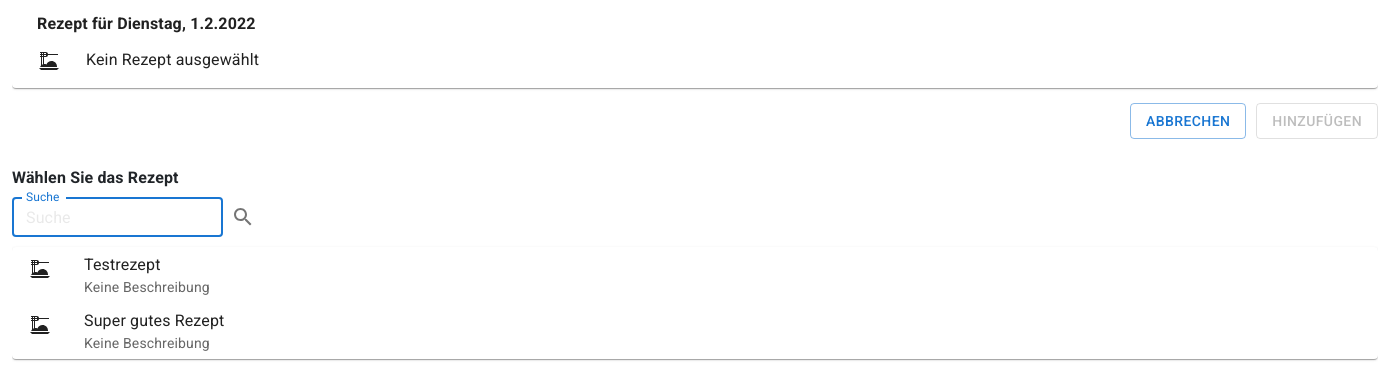
Test: renders selected recipe name if a recipe was selected
The image size is (1390, 378).
What coordinates should you click on to do the following:
click the text "Testrezept"
I would click on:
 (122, 265)
Its box is [84,255,160,274].
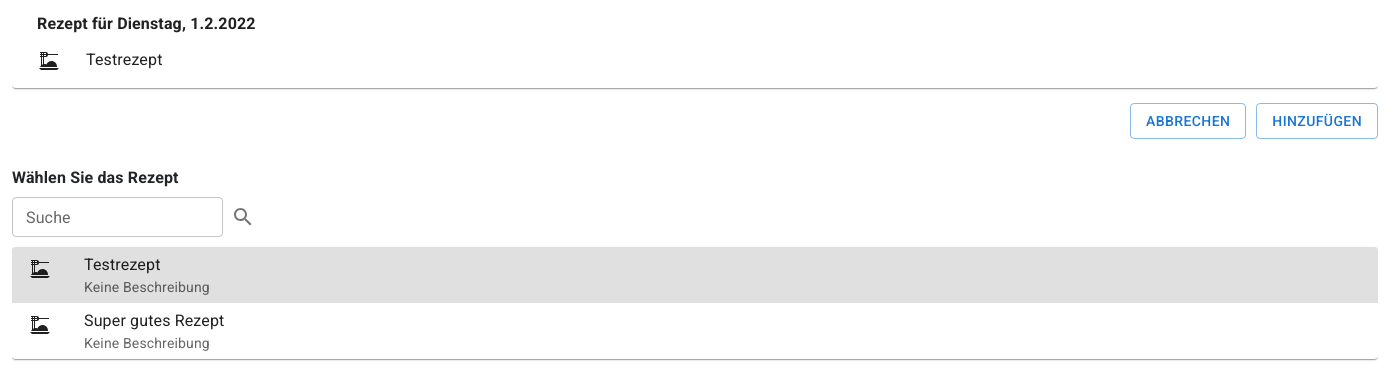
Check: the element showing "Testrezept" is shown, box [37,49,162,73]
Check: the text "Kein Rezept ausgewählt" is gone
